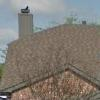Chimney: (12, 4, 44, 37)
